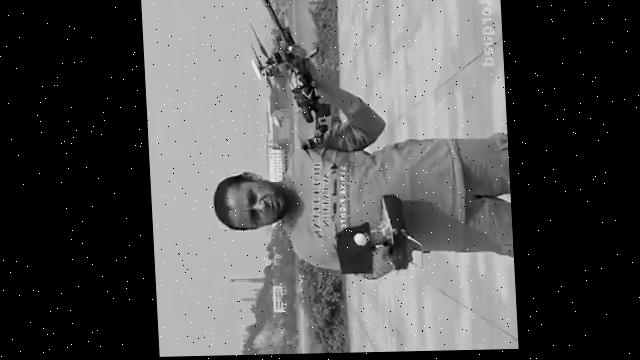drone: (220, 0, 334, 166)
